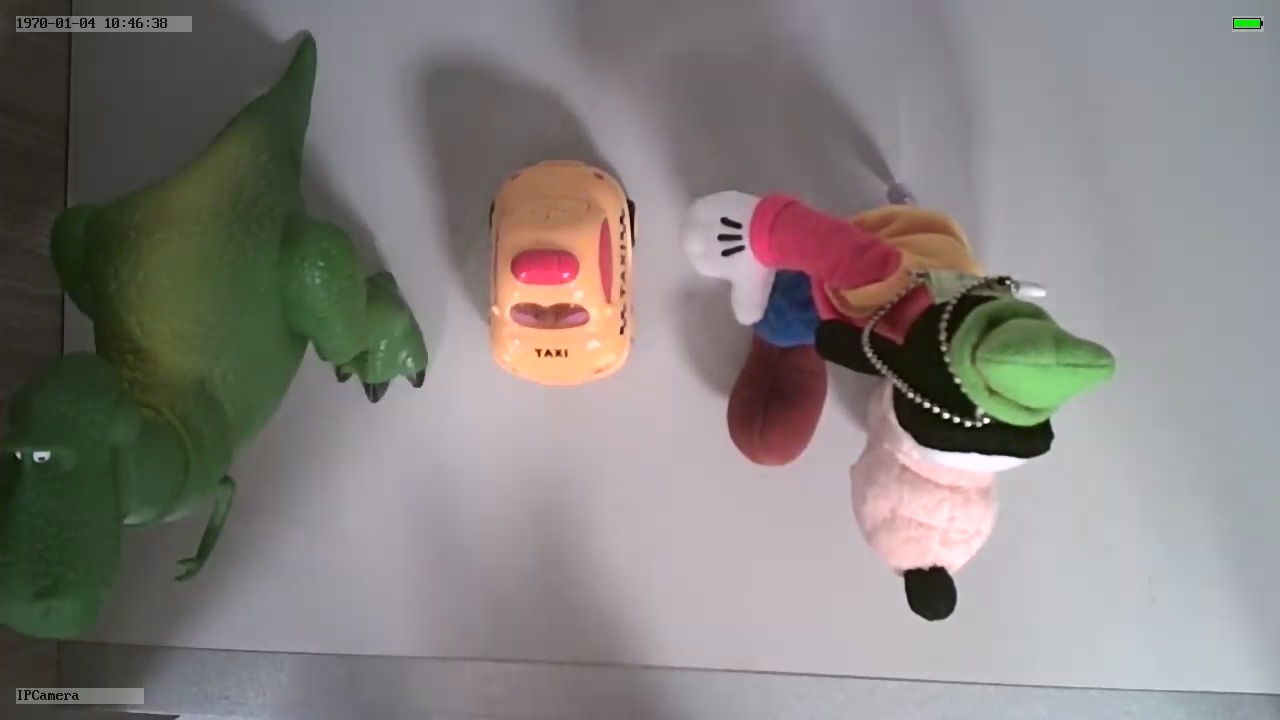car: (480, 148, 641, 387)
goofy: (681, 186, 1115, 619)
rex: (1, 85, 424, 638)
